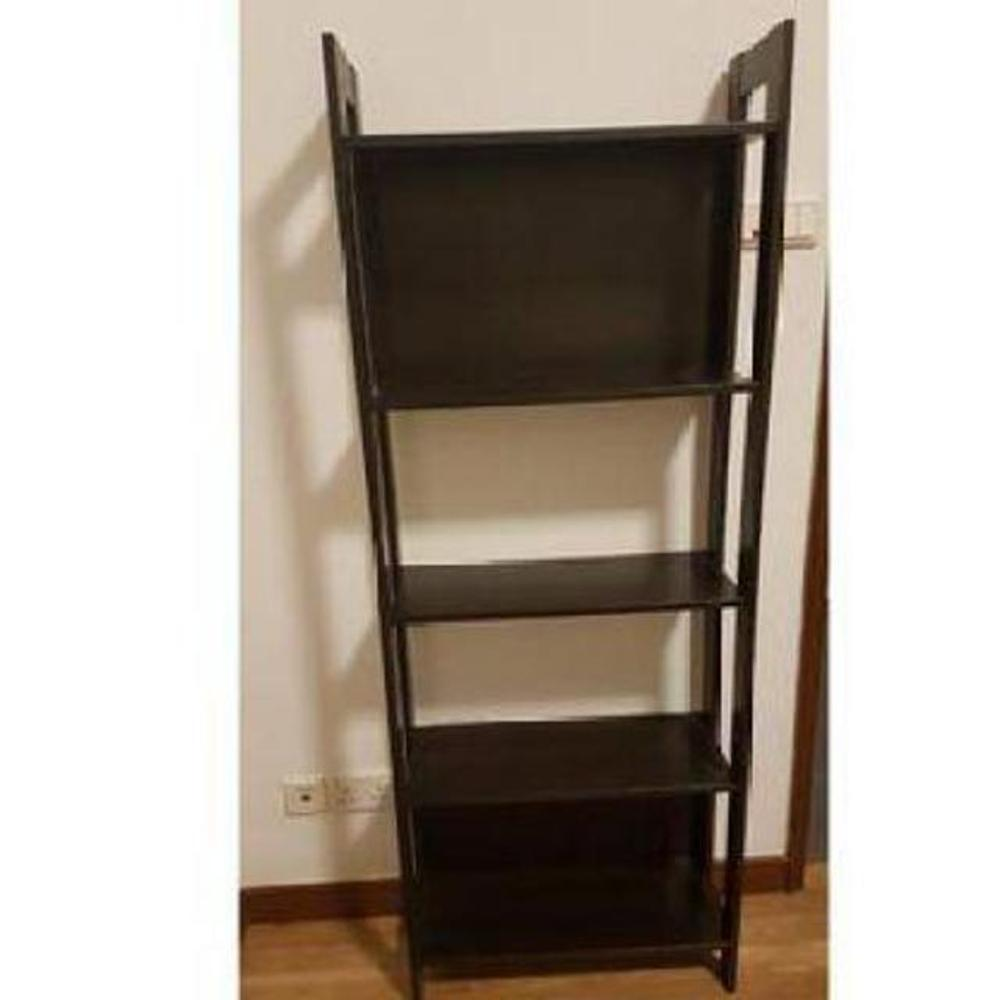lamp: (315, 13, 803, 997)
